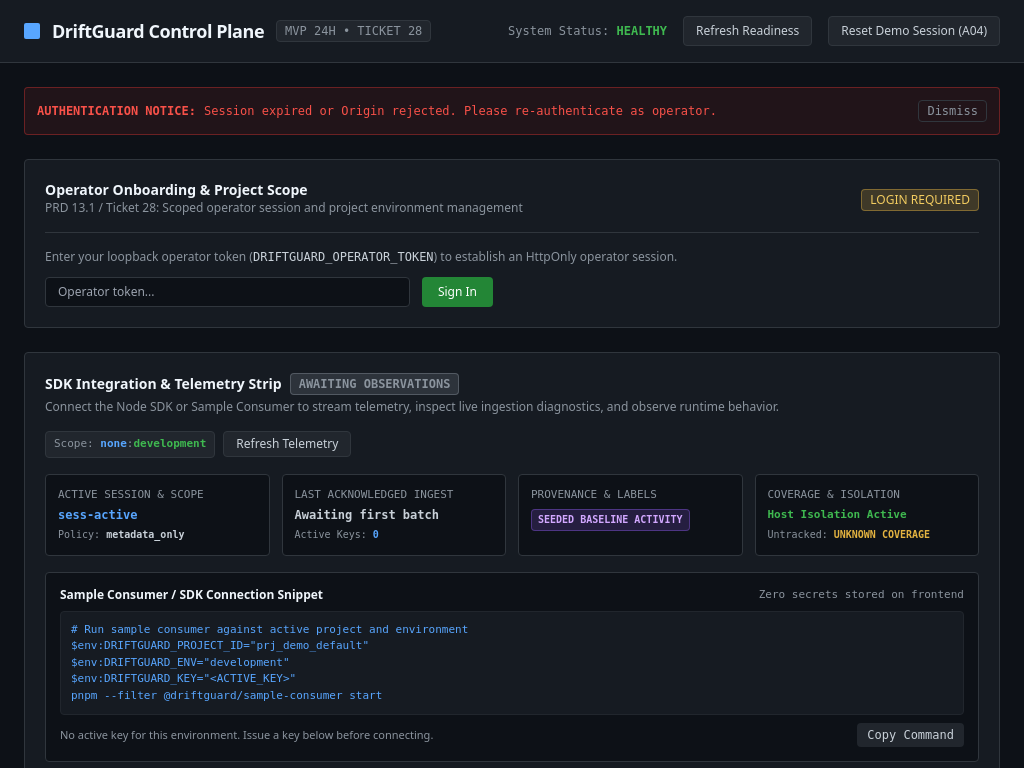
Test: Web App - Operational Canvas & Operator Onboarding › allows operator to login and shows project selectors
The width and height of the screenshot is (1024, 768).
Type "secret-token" into the password field with placeholder "Operator token..." at (227, 292), box [45,277,410,307]
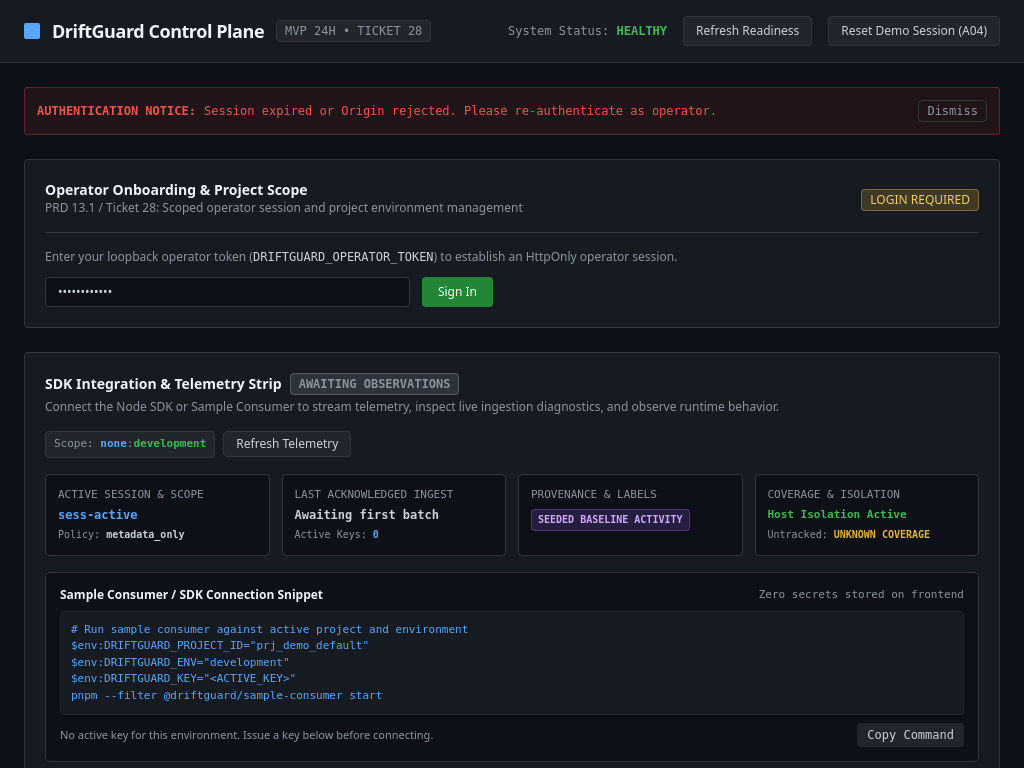
Click the button "Sign In" at (457, 292), box [422,277,493,307]
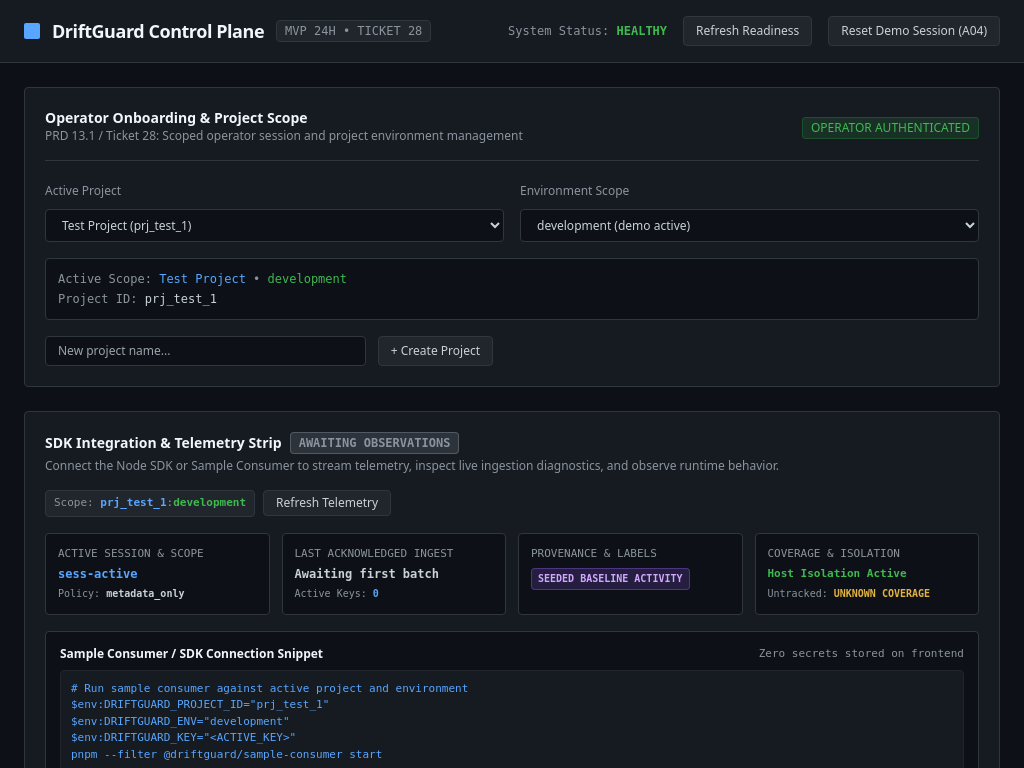
Expected: the text "OPERATOR AUTHENTICATED" is shown, [802,116,979,138]
